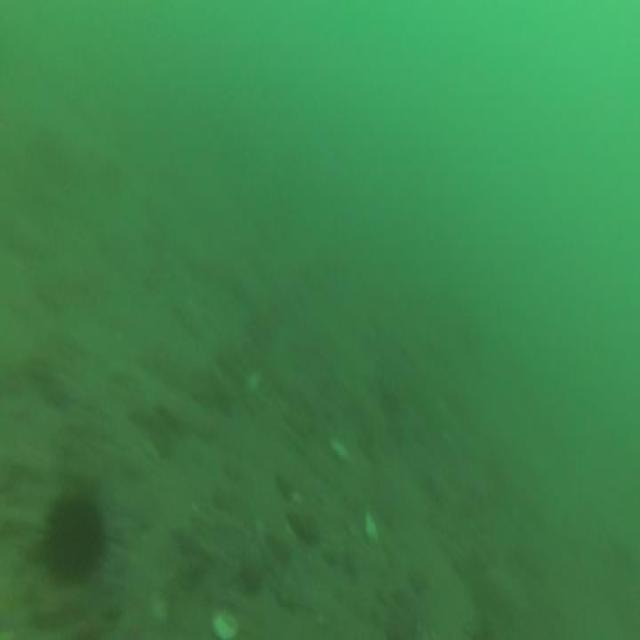echinus: (39, 483, 110, 588)
